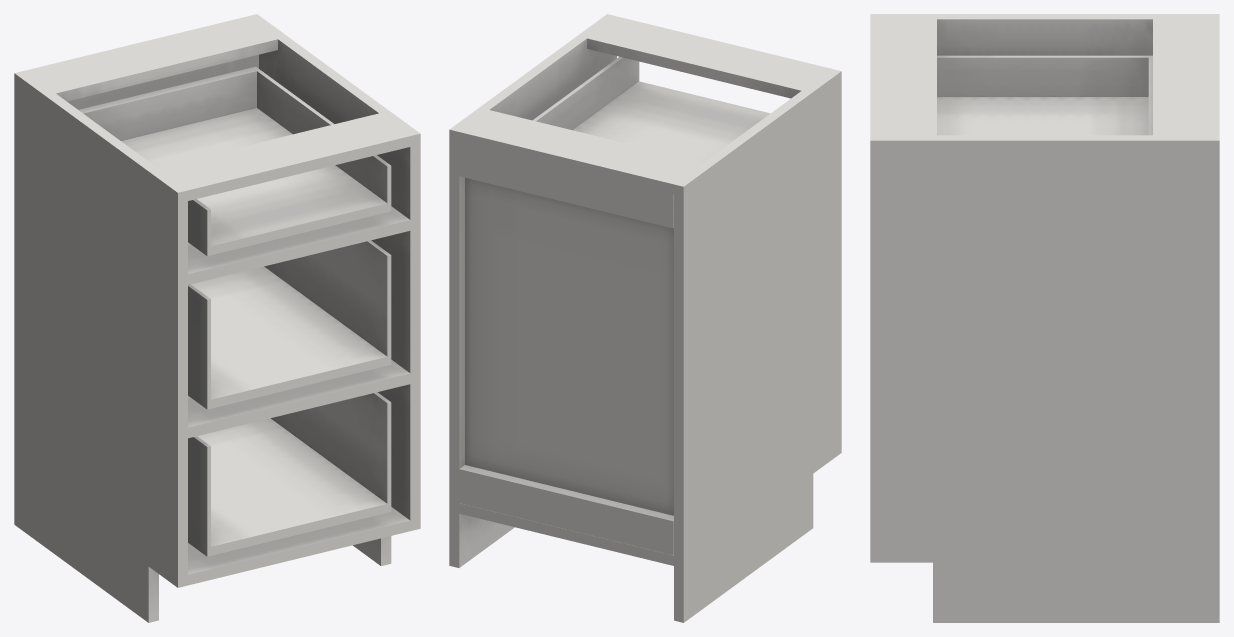
File: 3-drawer-vanity-doors-off.glb
3 views of the same model, side by side, from view 1: azimuth 30°, elevation 25°; view 2: azimuth 150°, elevation 25°; view 3: azimuth 270°, elevation 25° (orthographic). The views are drawn at different scales.
Parts seen in each view (by area): view 1: part_0, part_5; view 2: part_0, part_5; view 3: part_0, part_5.
Part boxes in pixels (box(x1,y1,x2,y2)): part_0: box(14, 14, 420, 622); part_5: box(79, 66, 391, 556); part_0: box(449, 14, 841, 622); part_5: box(532, 56, 770, 162); part_0: box(870, 14, 1219, 622); part_5: box(937, 55, 1152, 135).
Bounding box in the file's own units: 0.4572 × 0.8128 × 0.5335.
Materials: 2 (1 with a texture image).
